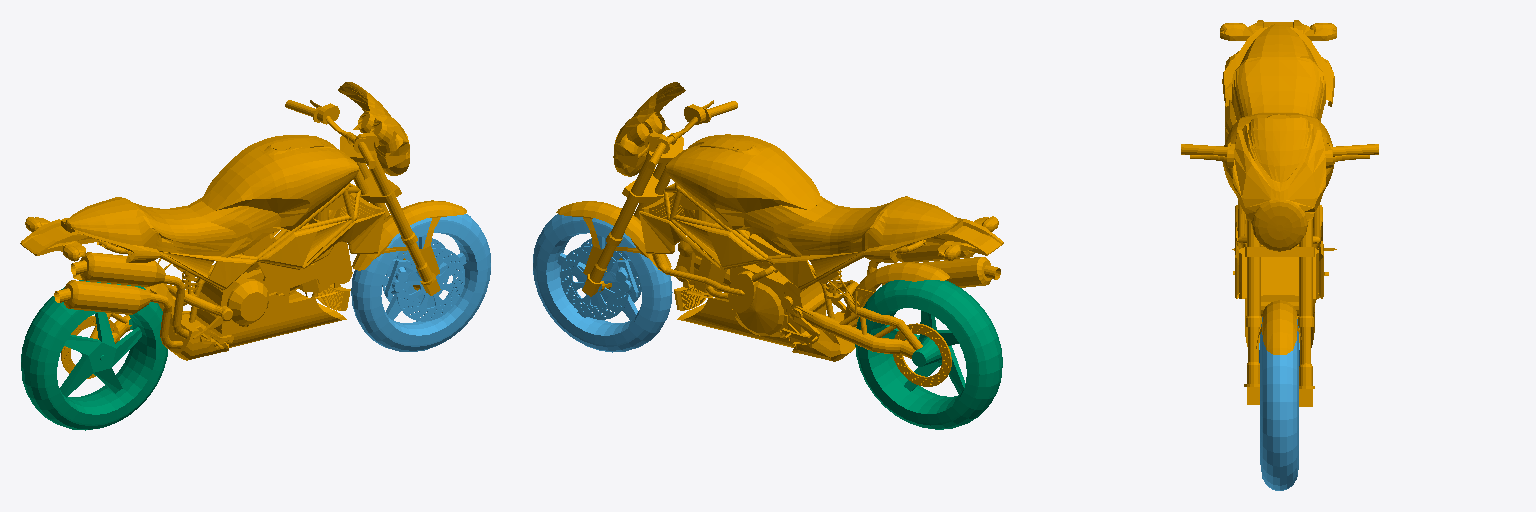
robot.urdf — predicted_motorbike:
<?xml version="1.0"?>
<robot name="predicted_motorbike">
  <link name="base_link">
    <visual>
      <geometry>
        <mesh filename="meshes/part_01.stl"/>
      </geometry>
    </visual>
    <visual>
      <geometry>
        <mesh filename="meshes/part_03.stl"/>
      </geometry>
    </visual>
    <visual>
      <geometry>
        <mesh filename="meshes/part_04.stl"/>
      </geometry>
    </visual>
    <visual>
      <geometry>
        <mesh filename="meshes/part_05.stl"/>
      </geometry>
    </visual>
    <visual>
      <geometry>
        <mesh filename="meshes/part_06.stl"/>
      </geometry>
    </visual>
  </link>
  <link name="link_user_sketch_1779223096768_J0">
    <visual>
      <origin xyz="-0.3532 0.0002 0.1379" rpy="0 0 0"/>
      <geometry>
        <mesh filename="meshes/part_00.stl"/>
      </geometry>
    </visual>
  </link>
  <joint name="joint_user_sketch_1779223096768_J0" type="continuous">
    <parent link="base_link"/>
    <child link="link_user_sketch_1779223096768_J0"/>
    <origin xyz="0.3532 -0.0002 -0.1379" rpy="0 0 0"/>
    <axis xyz="0.0000 -1.0000 0.0000"/>
  </joint>
  <link name="link_user_sketch_1779223096768_J1">
    <visual>
      <origin xyz="0.3483 0.0015 0.1270" rpy="0 0 0"/>
      <geometry>
        <mesh filename="meshes/part_02.stl"/>
      </geometry>
    </visual>
  </link>
  <joint name="joint_user_sketch_1779223096768_J1" type="continuous">
    <parent link="base_link"/>
    <child link="link_user_sketch_1779223096768_J1"/>
    <origin xyz="-0.3483 -0.0015 -0.1270" rpy="0 0 0"/>
    <axis xyz="0.0000 -1.0000 0.0000"/>
  </joint>
</robot>

--- Render facts (derived) ---
Views: 3 orthographic renders of the robot side by side, from view 1: azimuth 30°, elevation 25°; view 2: azimuth 150°, elevation 25°; view 3: azimuth 270°, elevation 25°.
Robot: predicted_motorbike — 3 links, 2 joints (2 continuous); root link base_link; default pose: all joints at 0.
Links seen in each view (by area): view 1: base_link, link_user_sketch_1779223096768_J1, link_user_sketch_1779223096768_J0; view 2: base_link, link_user_sketch_1779223096768_J1, link_user_sketch_1779223096768_J0; view 3: base_link, link_user_sketch_1779223096768_J0.
Link boxes in pixels (left/top/right/bottom): base_link: left=20, top=82, right=466, bottom=378; link_user_sketch_1779223096768_J1: left=21, top=280, right=167, bottom=430; link_user_sketch_1779223096768_J0: left=351, top=214, right=490, bottom=351; base_link: left=556, top=82, right=1003, bottom=386; link_user_sketch_1779223096768_J1: left=855, top=280, right=1002, bottom=429; link_user_sketch_1779223096768_J0: left=533, top=214, right=672, bottom=352; base_link: left=1181, top=20, right=1378, bottom=406; link_user_sketch_1779223096768_J0: left=1259, top=317, right=1299, bottom=490.
Size in the robot's own frame: 1 by 0.3088 by 0.5694 metres.
7 mesh visuals loaded from 7 distinct referenced files (7 binary STL).
